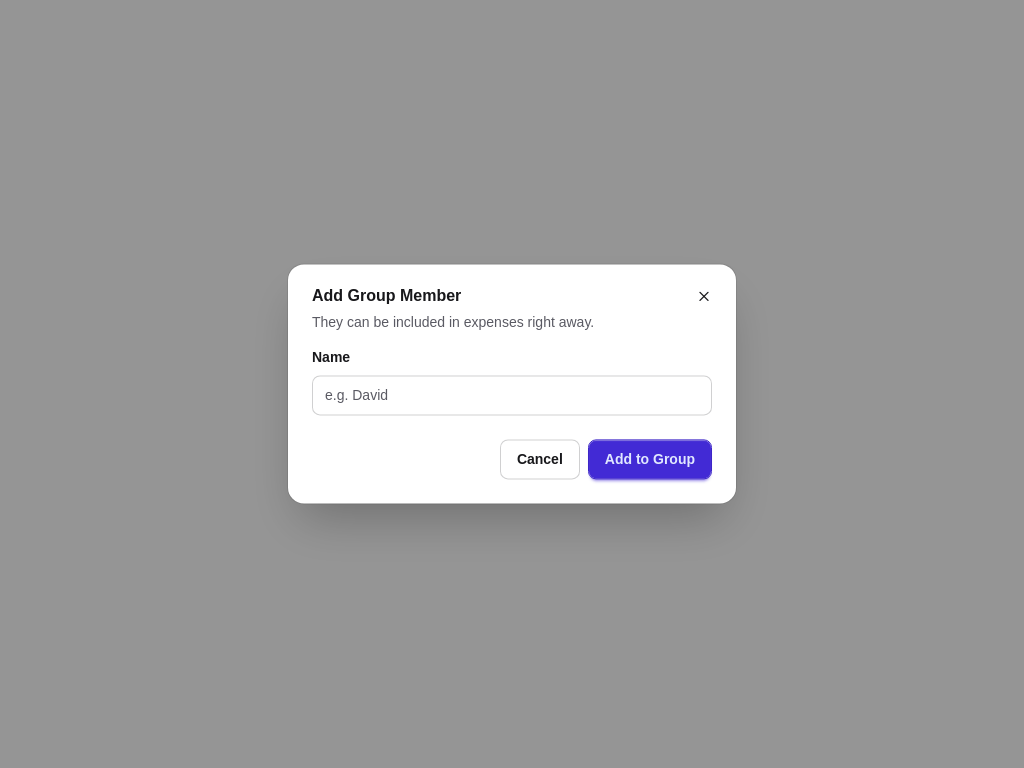
Test: MemberModal › stays open and says why when the name is refused
This screenshot has width=1024, height=768.
Type "Dan" into the field labelled "Name".
click(512, 396); type("Dan")  # box x1=312 y1=376 x2=712 y2=416
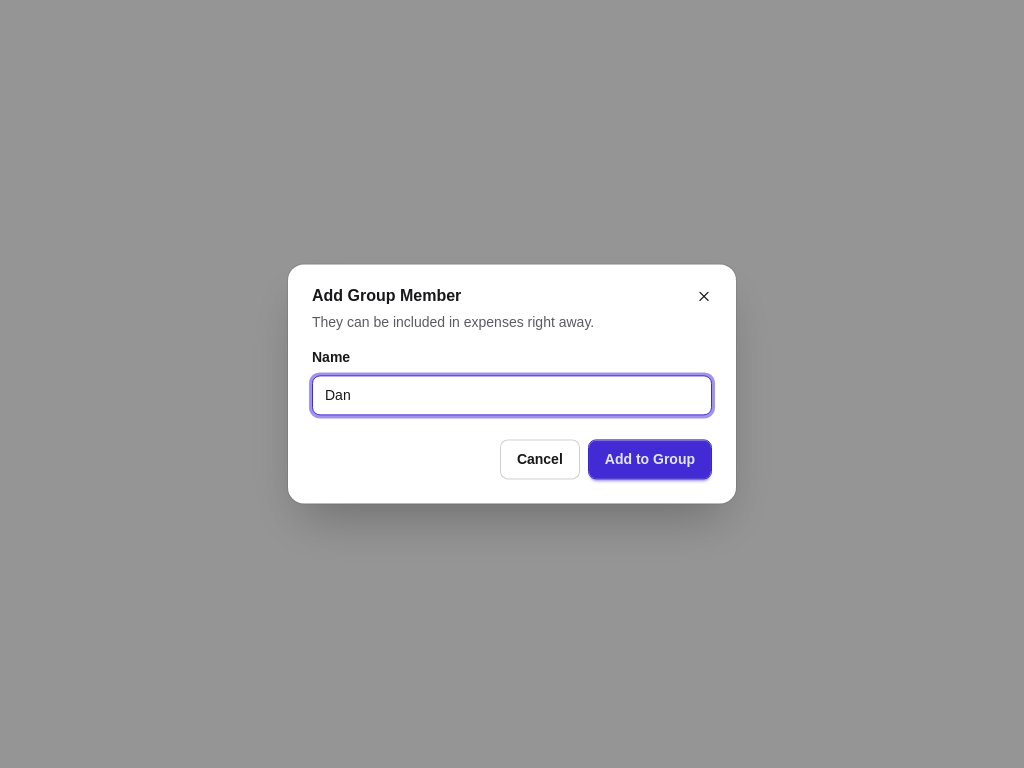
Submit the form, box x1=312 y1=348 x2=712 y2=480
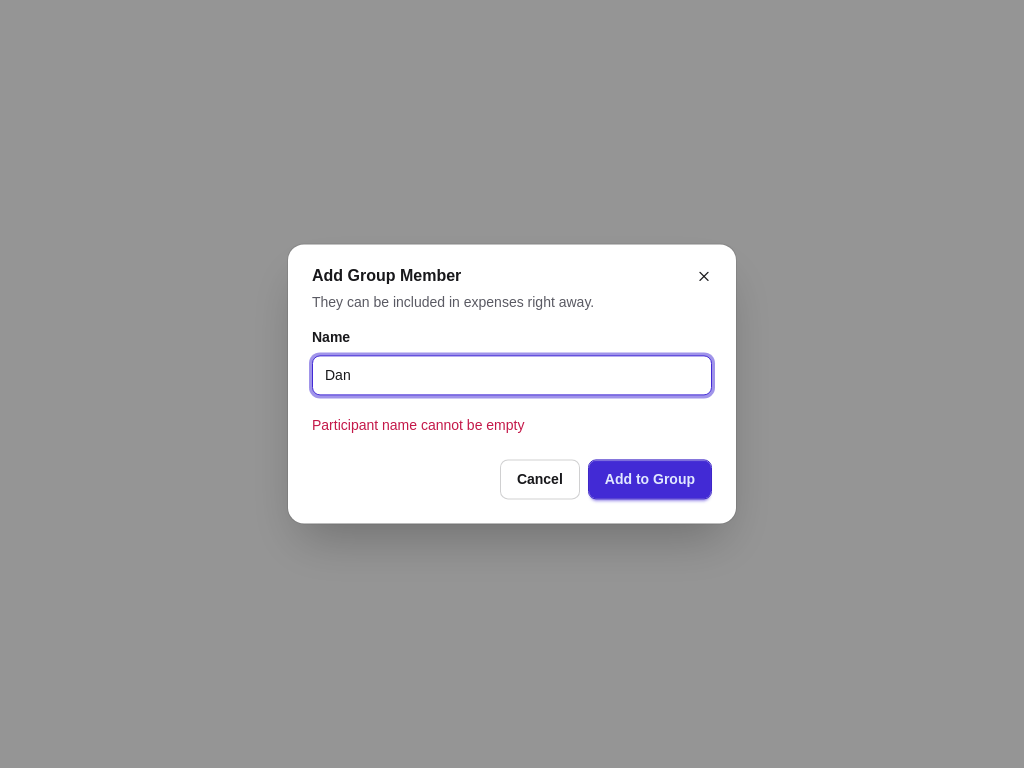
Check: the dialog shows "Participant name cannot be empty", box x1=312 y1=418 x2=524 y2=434
